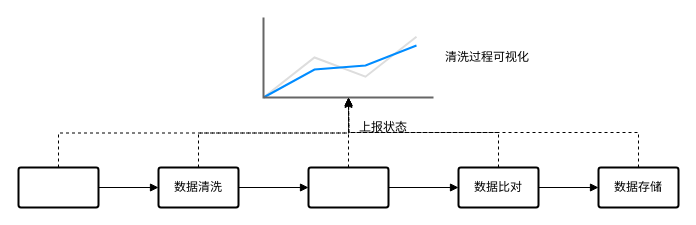
Image size: 696x225. Some labels were removed from this diagram. Here are the shapes that lost their labels. From the top down, the centre of each, then its label:
At pixel 58 187: "加载数据".
At pixel 348 187: "数据转换".
